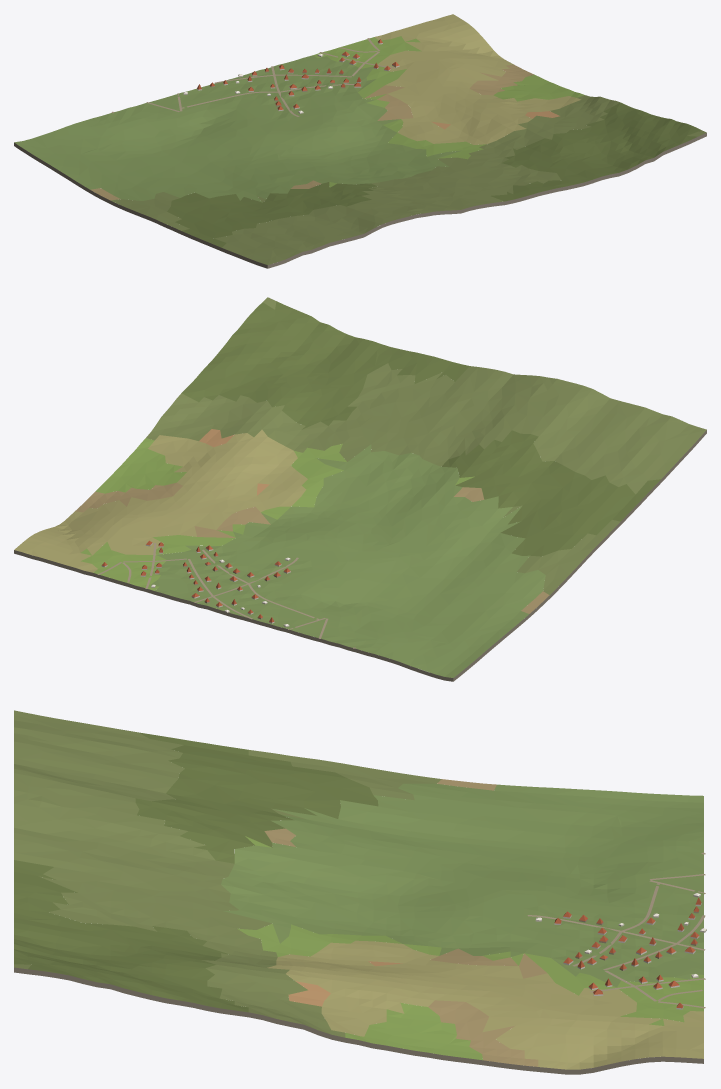
File: parca_+6_-3-uzak.glb
3 views of the same model, one above another, from view 1: azimuth 30°, elevation 25°; view 2: azimuth 150°, elevation 25°; view 3: azimuth 270°, elevation 25° (orthographic). The views are drawn at different scales.
Parts seen in each view (by area): view 1: parca_+6_-3_arazi_uzak, parca_+6_-3_yapilar_uzak, parca_+6_-3_yollar_uzak; view 2: parca_+6_-3_arazi_uzak, parca_+6_-3_yapilar_uzak, parca_+6_-3_yollar_uzak; view 3: parca_+6_-3_arazi_uzak, parca_+6_-3_yapilar_uzak, parca_+6_-3_yollar_uzak.
Part boxes in pixels (x1,y1,x2,y2): parca_+6_-3_arazi_uzak: [14, 14, 706, 268]; parca_+6_-3_yapilar_uzak: [183, 39, 399, 113]; parca_+6_-3_yollar_uzak: [111, 38, 395, 116]; parca_+6_-3_arazi_uzak: [14, 297, 706, 681]; parca_+6_-3_yapilar_uzak: [101, 540, 290, 627]; parca_+6_-3_yollar_uzak: [97, 543, 355, 648]; parca_+6_-3_arazi_uzak: [14, 710, 703, 1074]; parca_+6_-3_yapilar_uzak: [535, 893, 706, 1009]; parca_+6_-3_yollar_uzak: [527, 852, 705, 1008].
Size of the model in its own units: 1000 by 202 by 1004.
